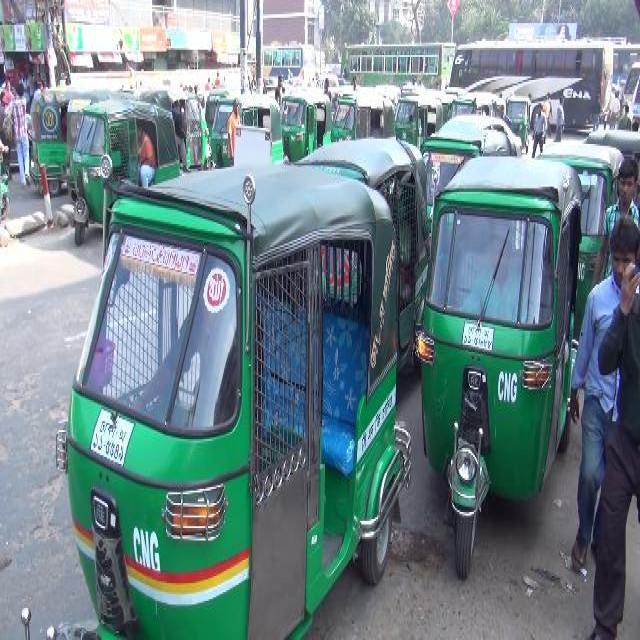vehicle: (54, 163, 404, 639), (420, 151, 581, 576), (292, 136, 432, 378), (536, 141, 622, 356), (71, 101, 184, 243), (453, 40, 616, 134), (419, 128, 528, 258), (64, 89, 136, 219), (340, 40, 456, 101), (145, 82, 215, 172), (215, 91, 286, 171), (30, 77, 77, 195), (586, 126, 640, 224), (217, 96, 284, 173), (281, 78, 333, 169), (331, 91, 397, 160), (438, 113, 523, 156), (397, 88, 443, 159), (333, 92, 395, 142), (262, 44, 315, 101), (396, 95, 447, 149), (207, 77, 232, 157), (506, 91, 533, 160), (613, 40, 639, 111), (450, 88, 493, 124), (621, 61, 640, 115)
